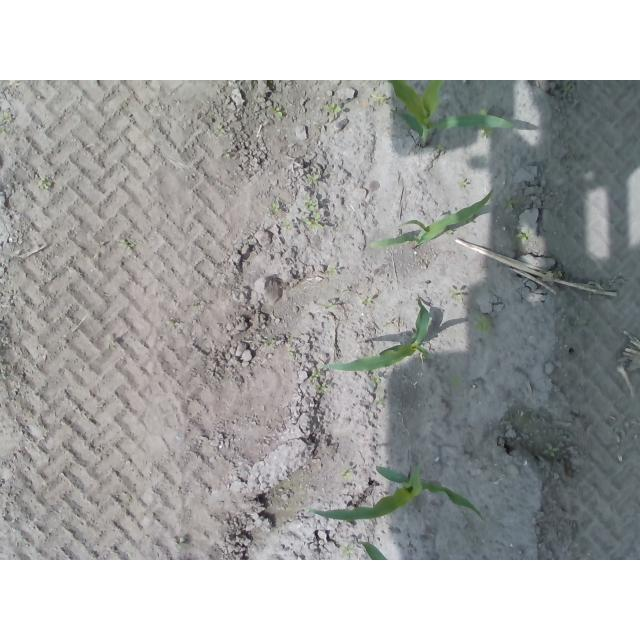Maize: (309, 464, 488, 521), (385, 80, 515, 148), (323, 297, 431, 372), (367, 187, 494, 249), (356, 540, 388, 561)
Weeds: (303, 197, 322, 230), (310, 372, 327, 393), (476, 314, 494, 331), (541, 443, 559, 458), (1, 112, 12, 135), (118, 238, 136, 250), (37, 178, 53, 190), (322, 104, 343, 113), (503, 196, 518, 208), (481, 127, 496, 138), (513, 231, 529, 241), (308, 175, 321, 186), (449, 289, 463, 299), (563, 80, 574, 92), (280, 221, 292, 232), (452, 374, 463, 386), (361, 294, 374, 304), (276, 107, 285, 121), (340, 470, 353, 479), (376, 95, 389, 104), (215, 125, 226, 135), (342, 547, 353, 556), (272, 203, 281, 214), (325, 302, 336, 311), (328, 265, 337, 275), (371, 376, 382, 384), (435, 143, 445, 150), (481, 106, 488, 114)
